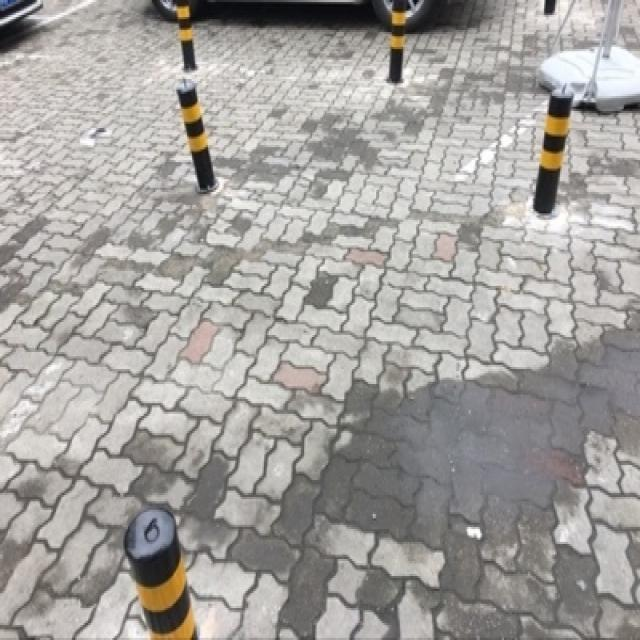warning_column: (123, 506, 200, 636), (530, 79, 572, 213), (176, 72, 218, 190), (381, 0, 406, 81), (174, 0, 196, 70)
